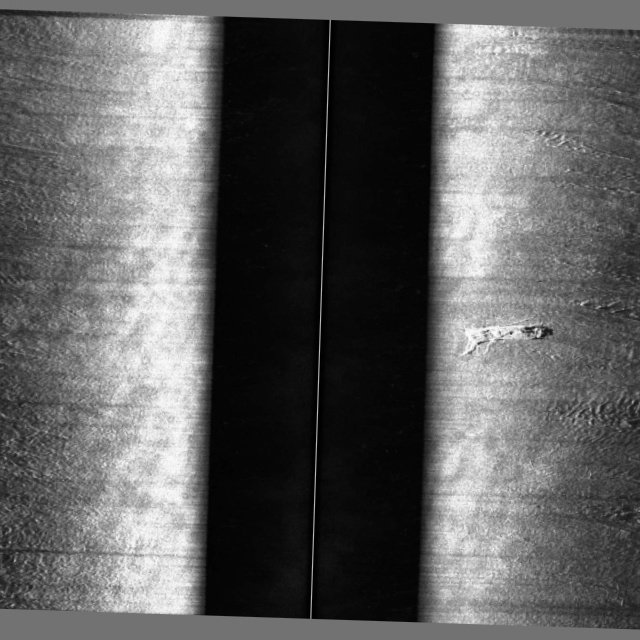Shipwreck: (455, 315, 549, 361)
